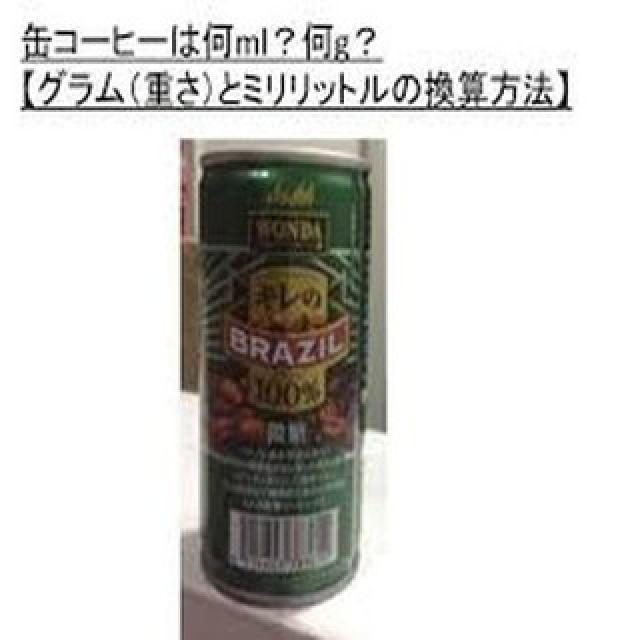can: (199, 148, 374, 608)
